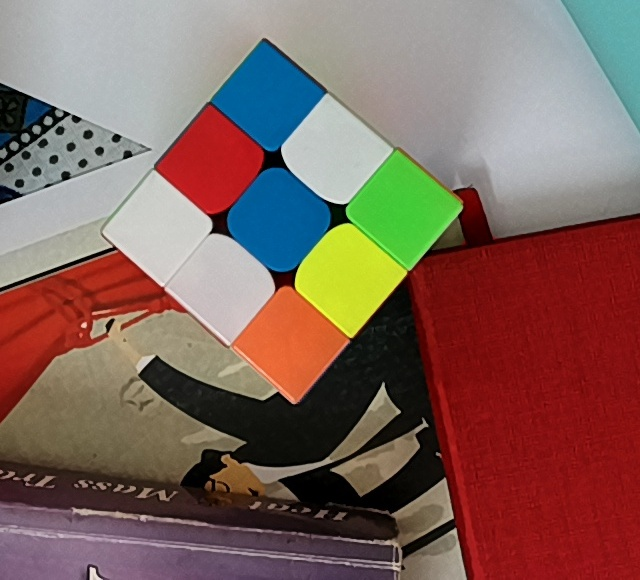tile: (372, 179, 433, 240), (247, 190, 308, 250), (262, 312, 322, 371), (303, 124, 364, 182), (131, 197, 187, 258), (182, 135, 244, 190), (316, 247, 375, 304), (237, 71, 297, 126), (199, 258, 253, 310)
